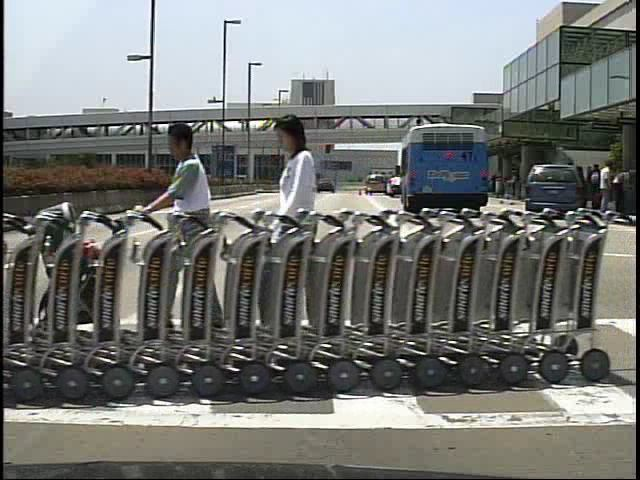person: (264, 115, 341, 349), (140, 120, 221, 338), (596, 160, 617, 212), (587, 164, 604, 212)
